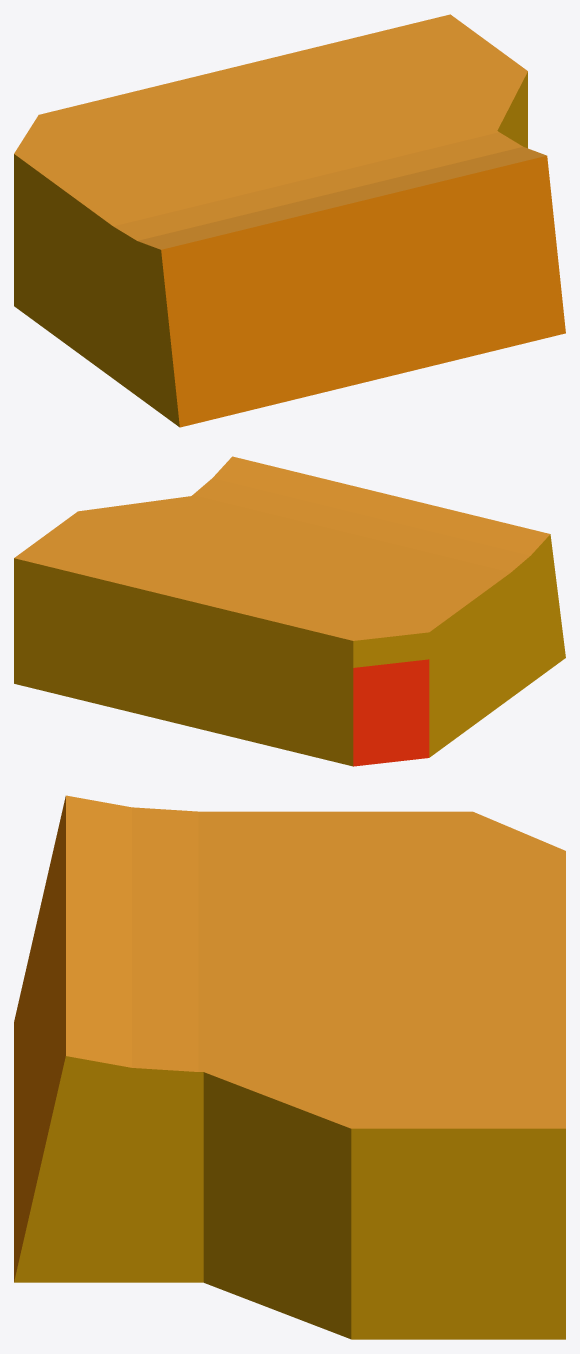
Rendered from Lab_Room.fbx.
The picture shows the model from 3 angles, top to bottom: view 1: azimuth 30°, elevation 25°; view 2: azimuth 150°, elevation 25°; view 3: azimuth 270°, elevation 25°; orthographic projection. The views are drawn at different scales.
Visible parts, largest first — view 1: Map.004; view 2: Map.004; view 3: Map.004.
Boxes of the visible parts, left/top/right/bottom form: Map.004: left=14, top=14, right=565, bottom=427; Map.004: left=14, top=456, right=565, bottom=766; Map.004: left=14, top=795, right=565, bottom=1339.
Bounding box in the file's own units: 2630 × 877 × 1934.
